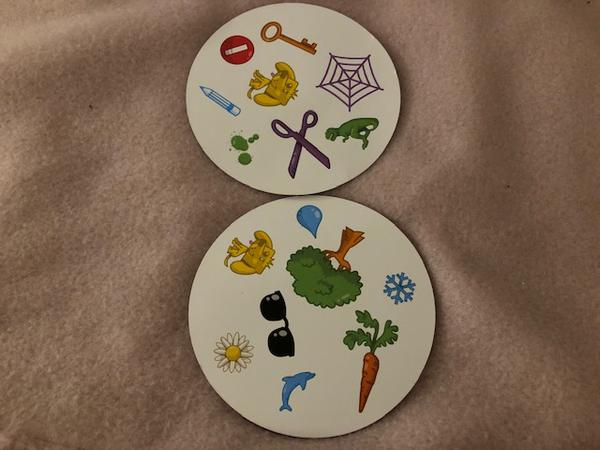arbre: (284, 227, 368, 313)
carotte: (341, 308, 396, 419)
chien: (221, 226, 278, 280), (244, 61, 302, 110)
ciseau: (268, 107, 337, 178)
cle: (256, 17, 321, 59)
crayon: (199, 79, 241, 121)
dauphin: (276, 368, 317, 412)
dinosore: (325, 113, 379, 154)
fleur: (213, 327, 256, 377)
flocon: (379, 266, 416, 311)
goutte: (295, 202, 324, 240)
lunette: (257, 287, 293, 363)
sens_interdit: (219, 33, 254, 67)
tache: (227, 127, 263, 169)
toile: (313, 49, 385, 113)
